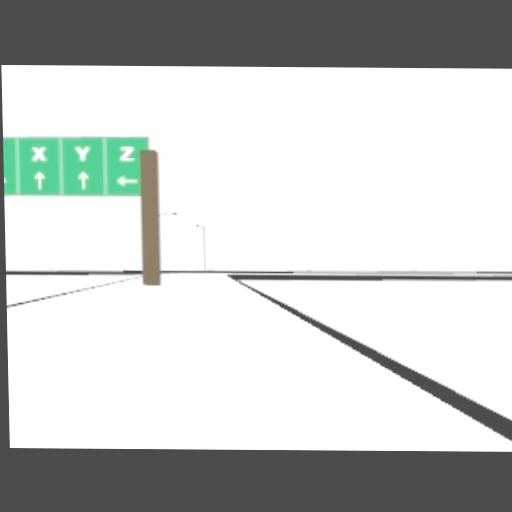Left: (114, 174, 138, 184)
Straight: (76, 171, 88, 189), (34, 170, 44, 188)
X: (32, 145, 45, 160)
Y: (74, 144, 89, 161)
Z: (119, 144, 134, 159)
